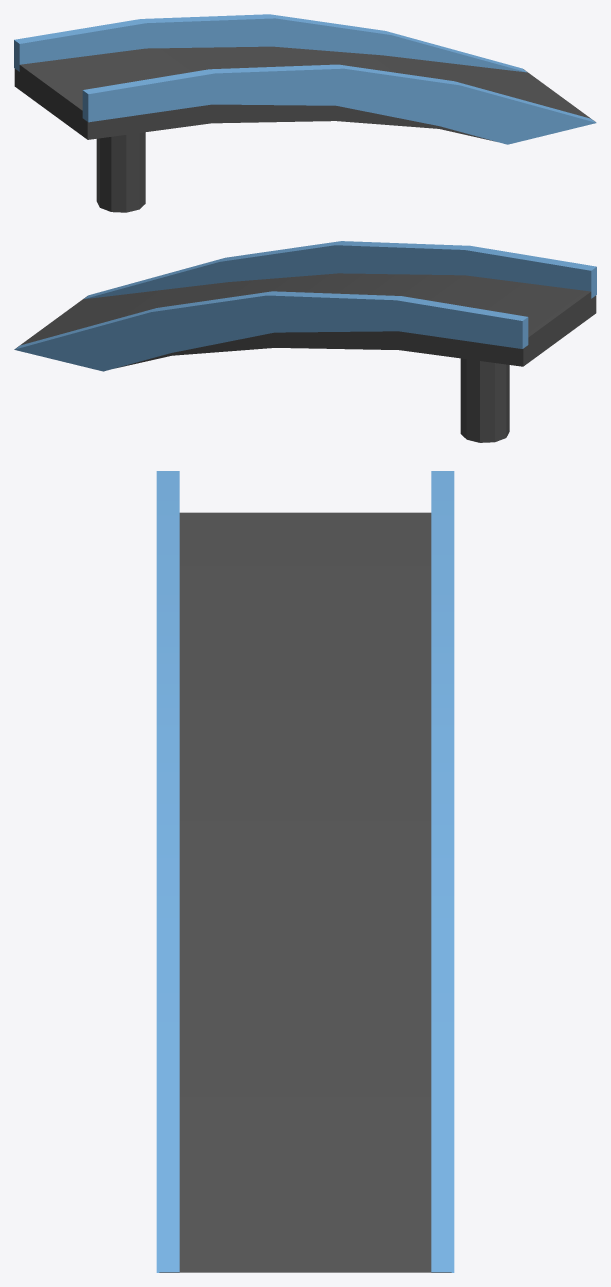
The model's file is Bridge.fbx.
3 renders of one model, top to bottom at view 1: azimuth 30°, elevation 25°; view 2: azimuth 150°, elevation 25°; view 3: azimuth 270°, elevation 25°, orthographic. The views are drawn at different scales.
Parts seen in each view (by area): view 1: pCube36; view 2: pCube36; view 3: pCube36.
Part boxes in pixels (x1=…): pCube36: x1=14, y1=14, x2=596, y2=212; pCube36: x1=14, y1=241, x2=596, y2=442; pCube36: x1=156, y1=471, x2=454, y2=1272.
Size of the model in its own units: 12421 by 3614 by 3147.
